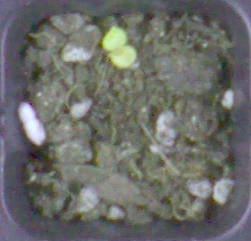pepper seed: (39, 8, 177, 78), (39, 0, 166, 52)
